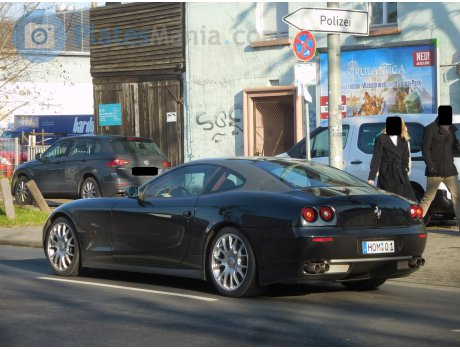License Plates: (366, 241, 395, 247)
